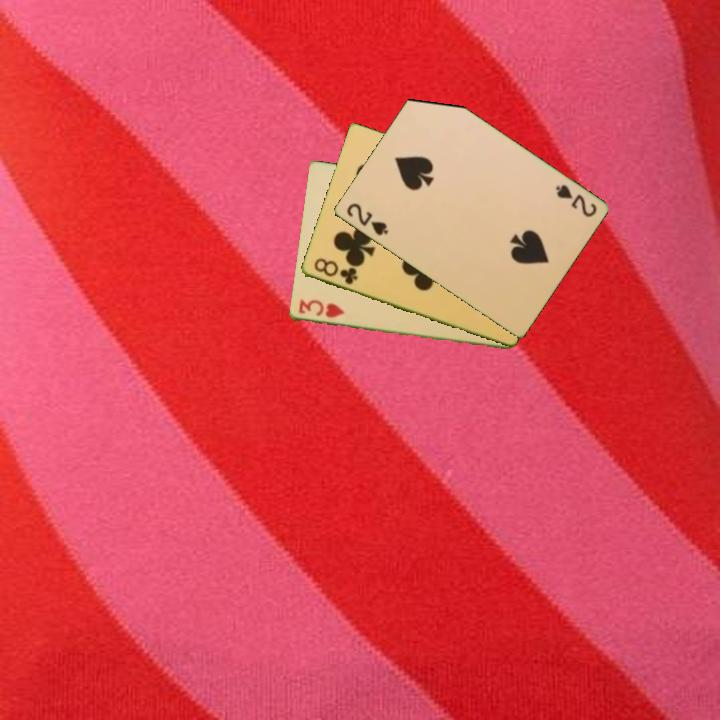2s: (342, 199, 391, 238), (551, 181, 599, 220)
3h: (294, 296, 347, 321)
8c: (310, 254, 360, 288)
